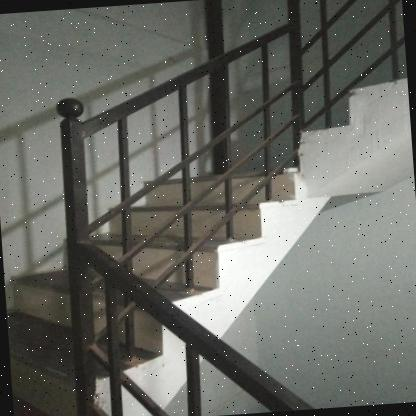stair: (0, 107, 322, 406)
